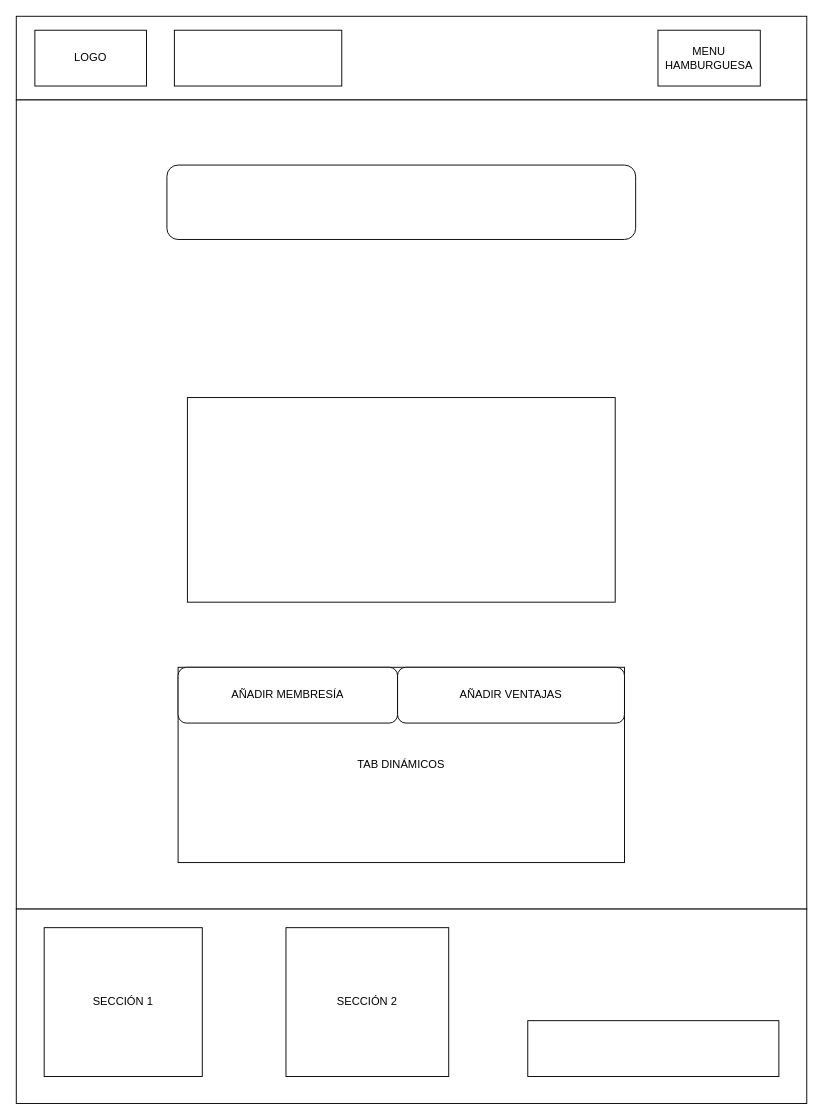
Some shapes in this 823 by 1120 pixel diagram are drawn without their labels. Here are the shapes that lost their labels. From the top down, the centre of each, then its label:
the point at 257,57: NOMBRE DE EMPRESA
the point at 401,201: TÍTULO MEMBRESÍAS
the point at 400,499: MEMBRESÍAS
the point at 653,1048: INFO EXTRA
